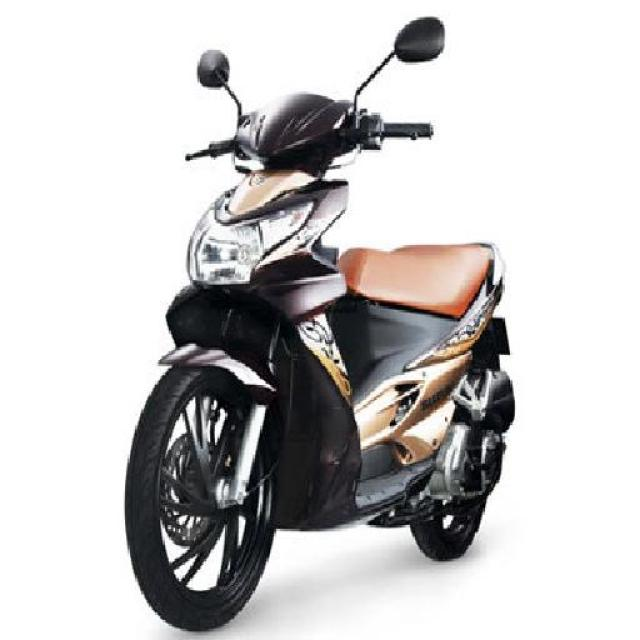All: (117, 86, 522, 632)
Head: (180, 93, 434, 181)
Tail: (443, 229, 508, 298)
